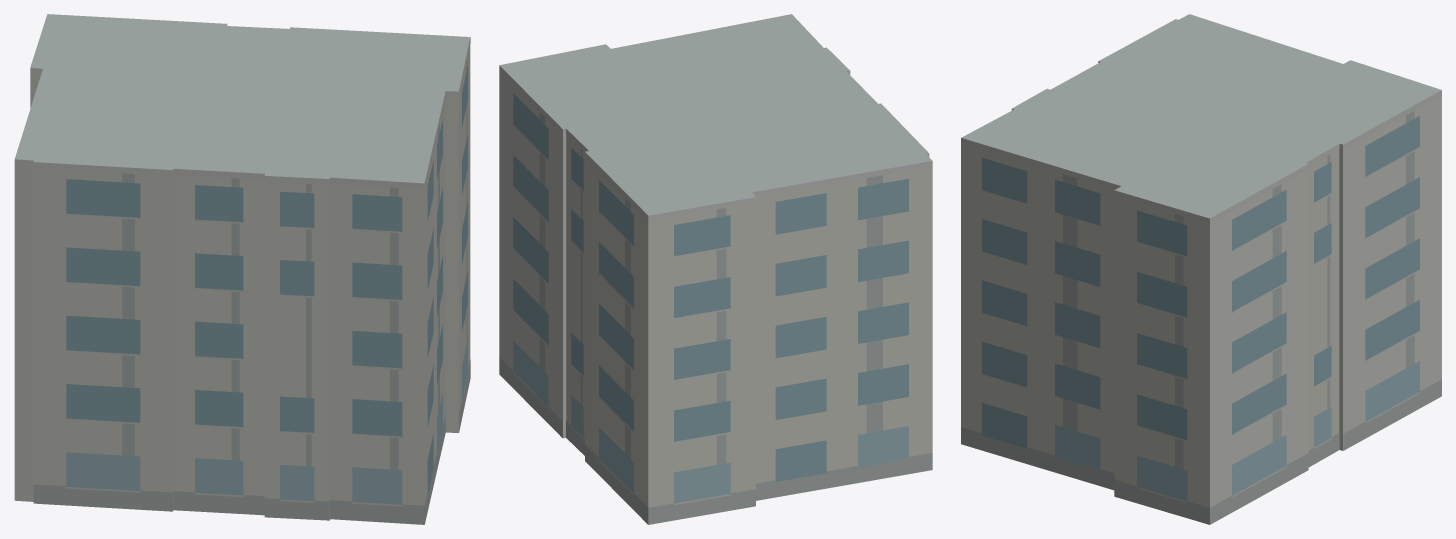
The model's file is survey-upis-33022592.glb.
The picture shows the model from 3 angles, left to right: view 1: azimuth 30°, elevation 25°; view 2: azimuth 150°, elevation 25°; view 3: azimuth 270°, elevation 25°; orthographic projection. The views are drawn at different scales.
Visible parts, largest first — view 1: survey-upis-33022592.tmp; view 2: survey-upis-33022592.tmp; view 3: survey-upis-33022592.tmp.
Boxes of the visible parts, x1=… form: survey-upis-33022592.tmp: x1=14, y1=14, x2=470, y2=524; survey-upis-33022592.tmp: x1=499, y1=14, x2=932, y2=524; survey-upis-33022592.tmp: x1=961, y1=14, x2=1441, y2=524.
Size of the model in its own units: 19.18 by 13.39 by 19.05.
